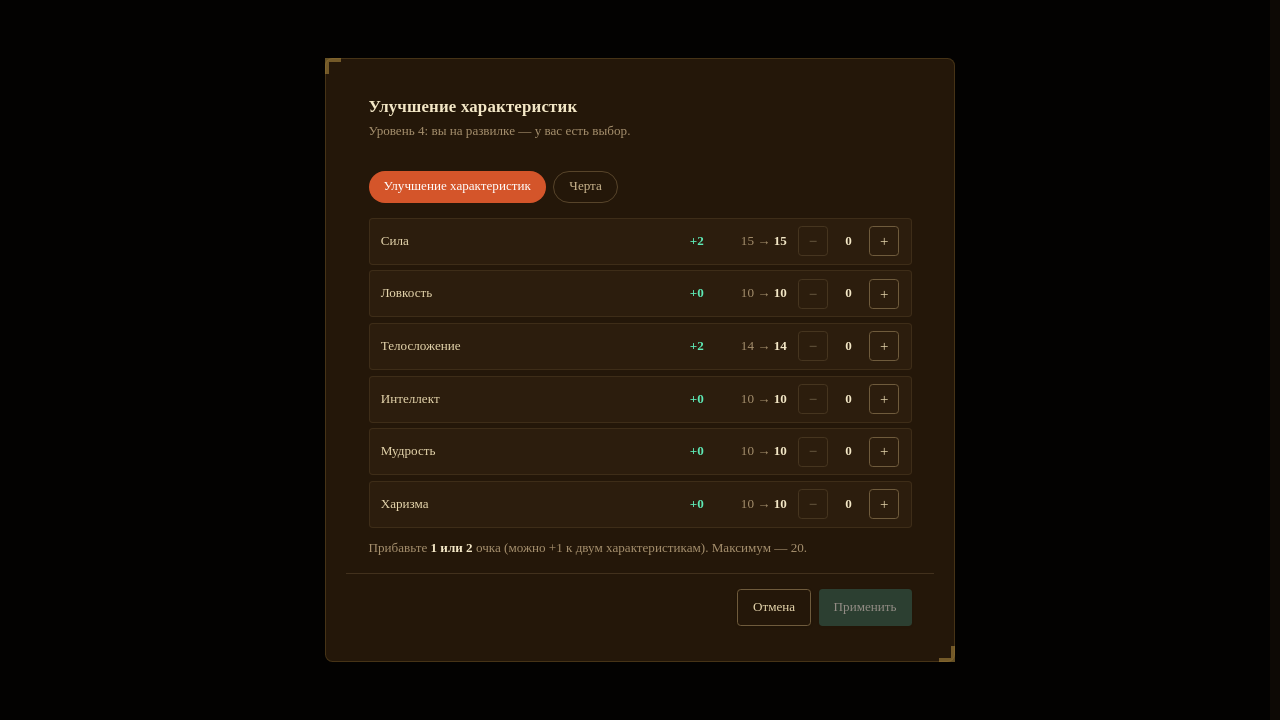
Scenario: AsiChoiceModal › allows at most +2 per stat
The image size is (1280, 720).
Click the button "+" in the row of "Сила".
click(884, 241)  # box [869,226,899,256]
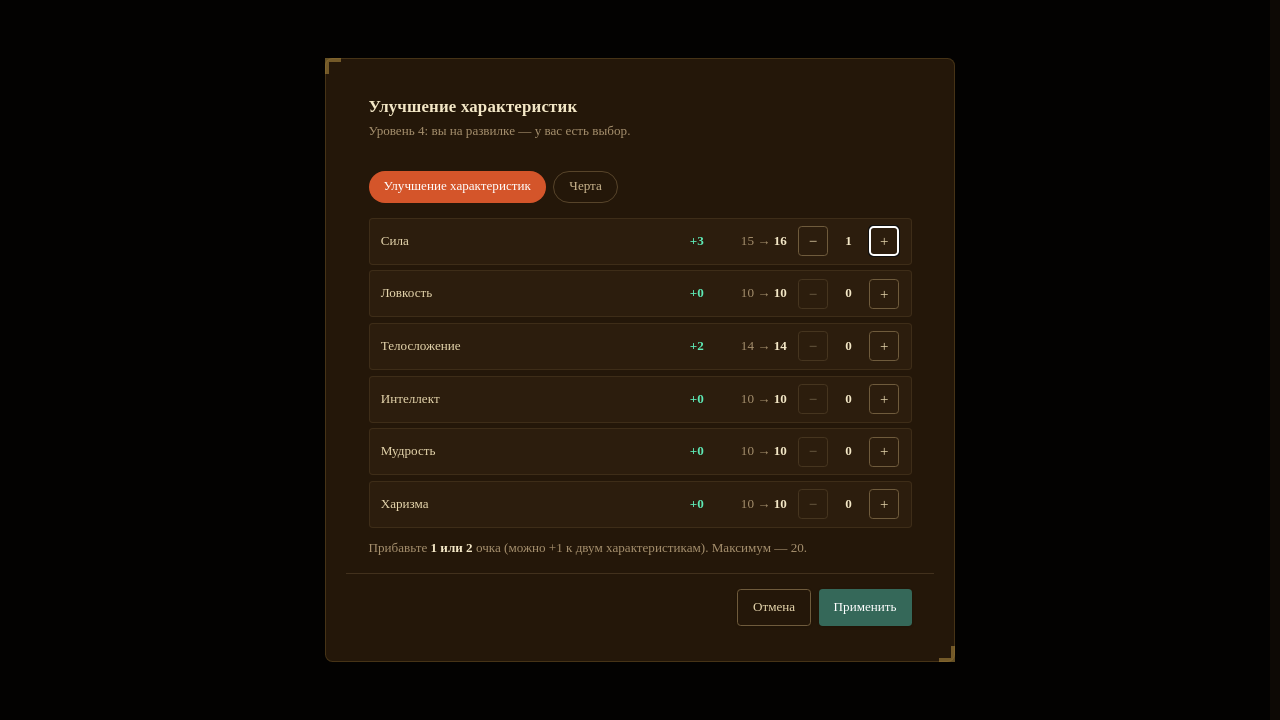
Click the button "+" in the row of "16".
click(884, 241)  # box [869,226,899,256]
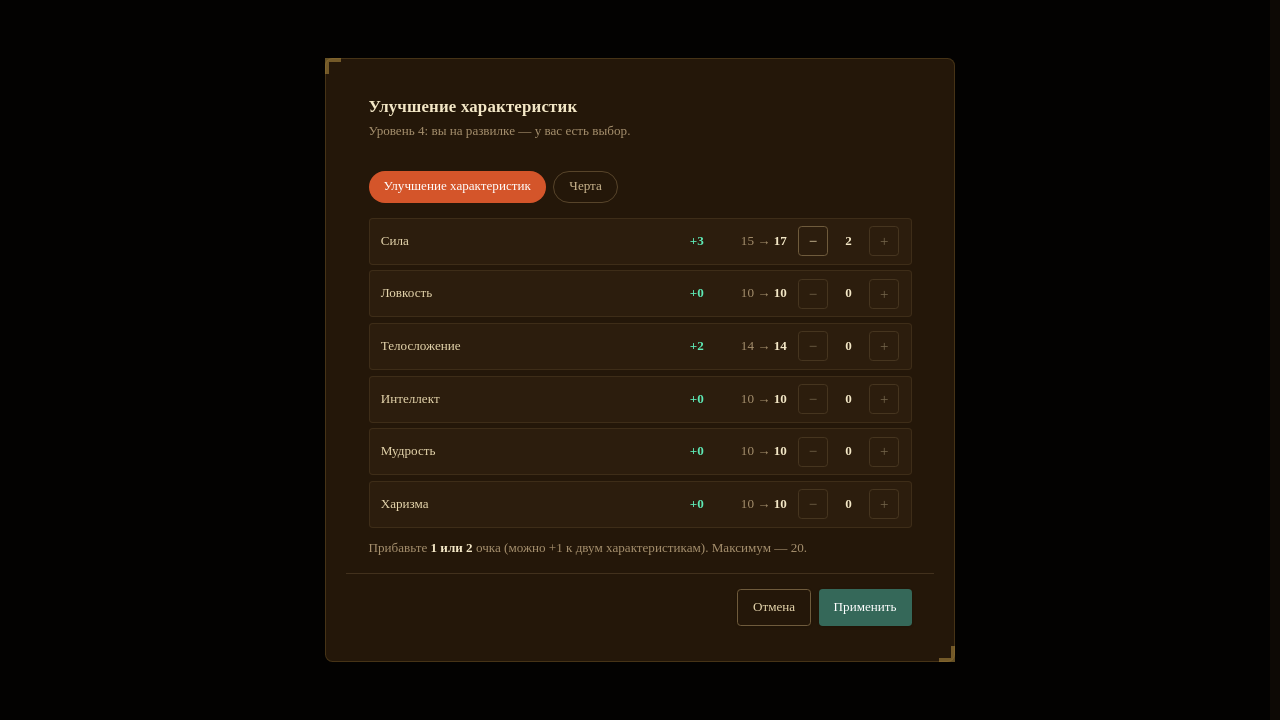
Expected: the text "2" is shown, [845,233,852,248]
